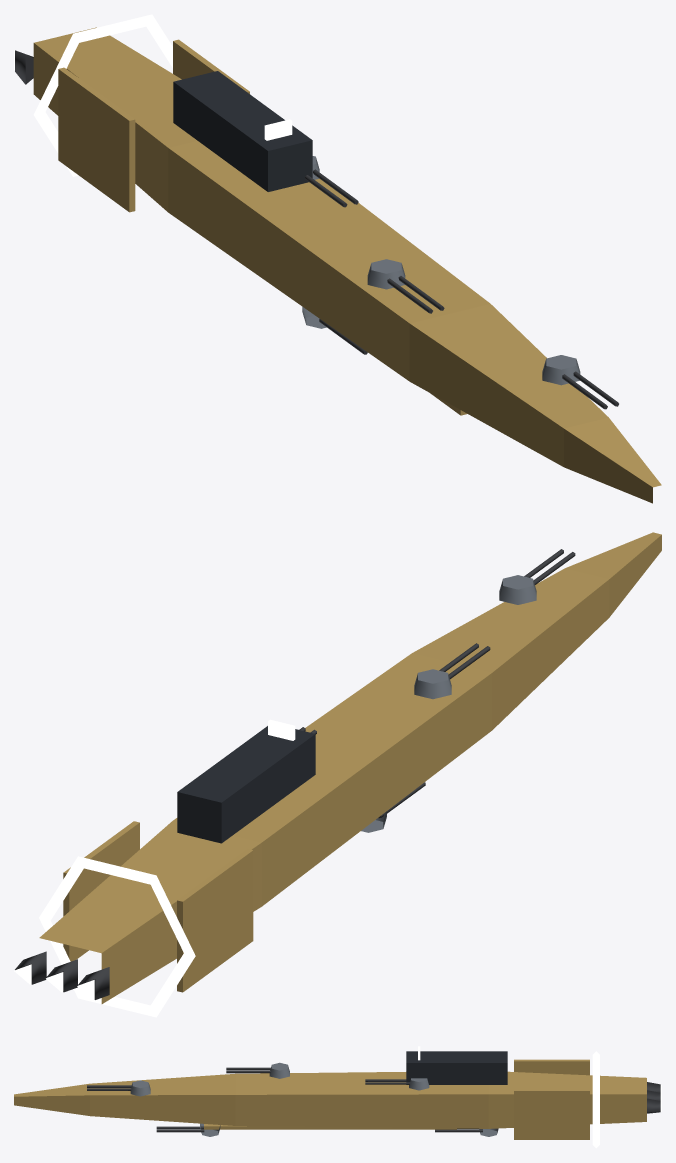
The model's file is space_ship_frigate_mk7_lod2.glb.
3 views of the same model, one above another, from view 1: azimuth 30°, elevation 25°; view 2: azimuth 150°, elevation 25°; view 3: azimuth 270°, elevation 25° (orthographic). The views are drawn at different scales.
Visible parts, largest first — view 1: body, turret_0, turret_2; view 2: body, turret_2, turret_0, engine_2, engine_0, engine_1; view 3: body, turret_2, turret_0, turret_4, turret_1, turret_5, engine_2.
Part boxes in pixels (bbox=[...]): body: bbox=[33, 14, 661, 503]; turret_0: bbox=[542, 355, 618, 409]; turret_2: bbox=[367, 259, 444, 313]; body: bbox=[39, 532, 661, 1017]; turret_2: bbox=[414, 643, 490, 699]; turret_0: bbox=[499, 549, 575, 604]; engine_2: bbox=[14, 951, 46, 984]; engine_0: bbox=[77, 967, 109, 1000]; engine_1: bbox=[46, 959, 77, 992]; body: bbox=[14, 1046, 646, 1148]; turret_2: bbox=[226, 1062, 289, 1078]; turret_0: bbox=[87, 1080, 150, 1096]; turret_4: bbox=[365, 1078, 429, 1090]; turret_1: bbox=[156, 1123, 220, 1136]; turret_5: bbox=[435, 1128, 498, 1136]; engine_2: bbox=[647, 1098, 661, 1113].
Size of the model in its own units: 7.96 by 7.96 by 52.82.
